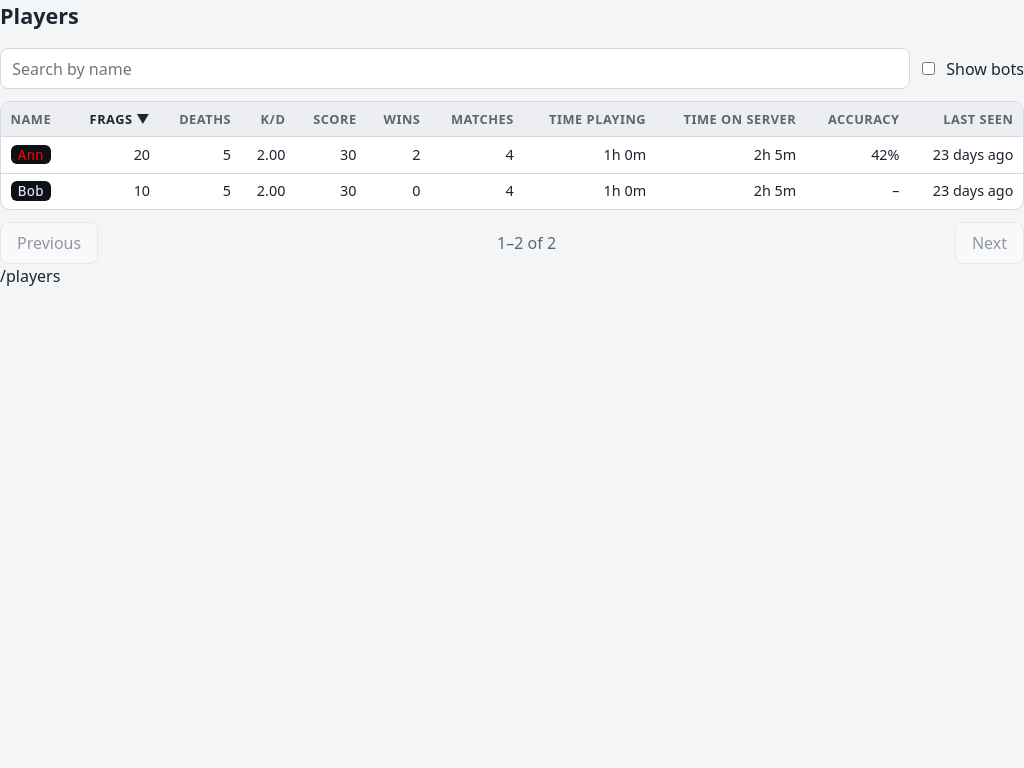
Test: the player dialog (7.3) › opens from a click on the row and shows the details
The image size is (1024, 768).
Step 1. Click the text "Bob" → {"x": 512, "y": 191}, box [1, 173, 1023, 209]
(page scrolled)
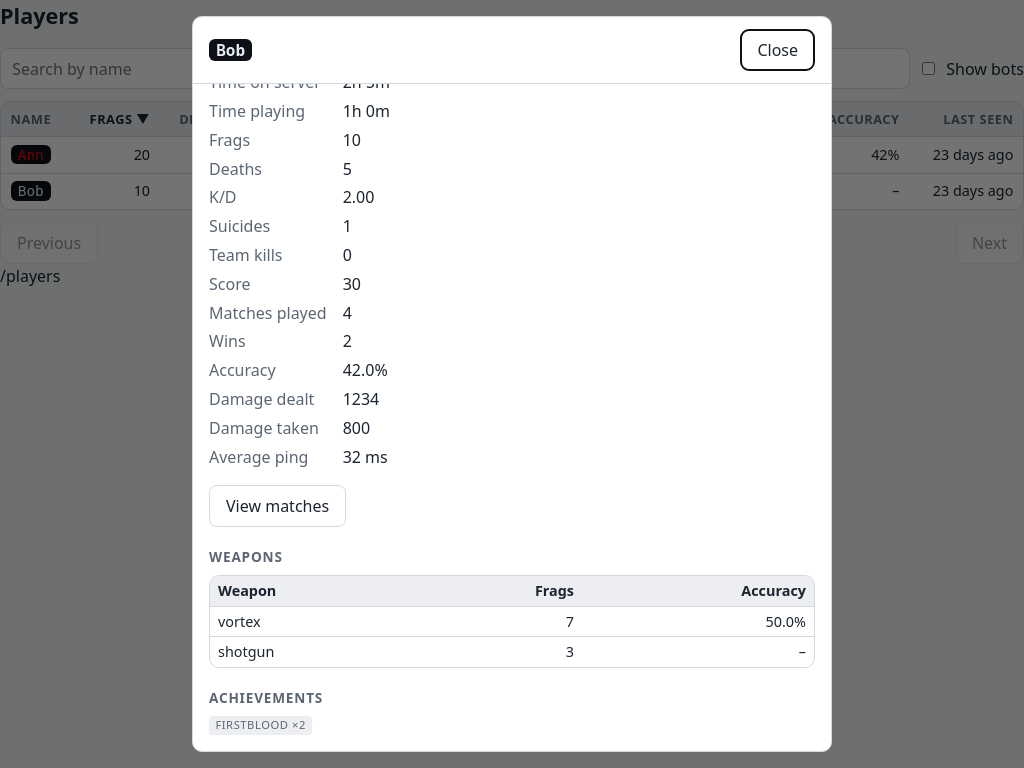
Check: the text "1234" is shown, box [343, 388, 379, 410]
Check: the text "32 ms" is shown, box [343, 446, 388, 468]
Check: the list item "firstblood ×2" is shown, box [209, 716, 312, 734]
